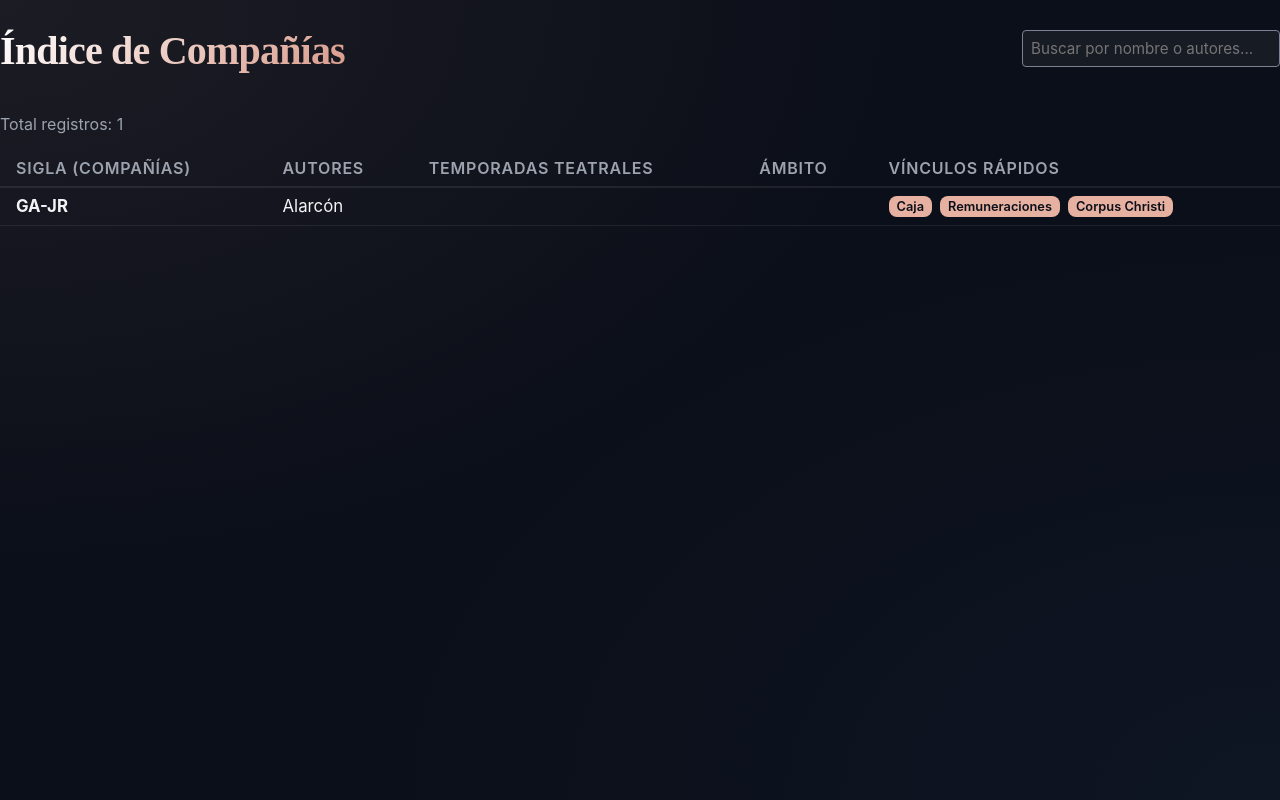
it: índice de compañías: navegar a Caja / Remuneraciones › sin registros avisa y no navega
Click the button "Caja". click: (910, 206)
box: [889,196,932,217]
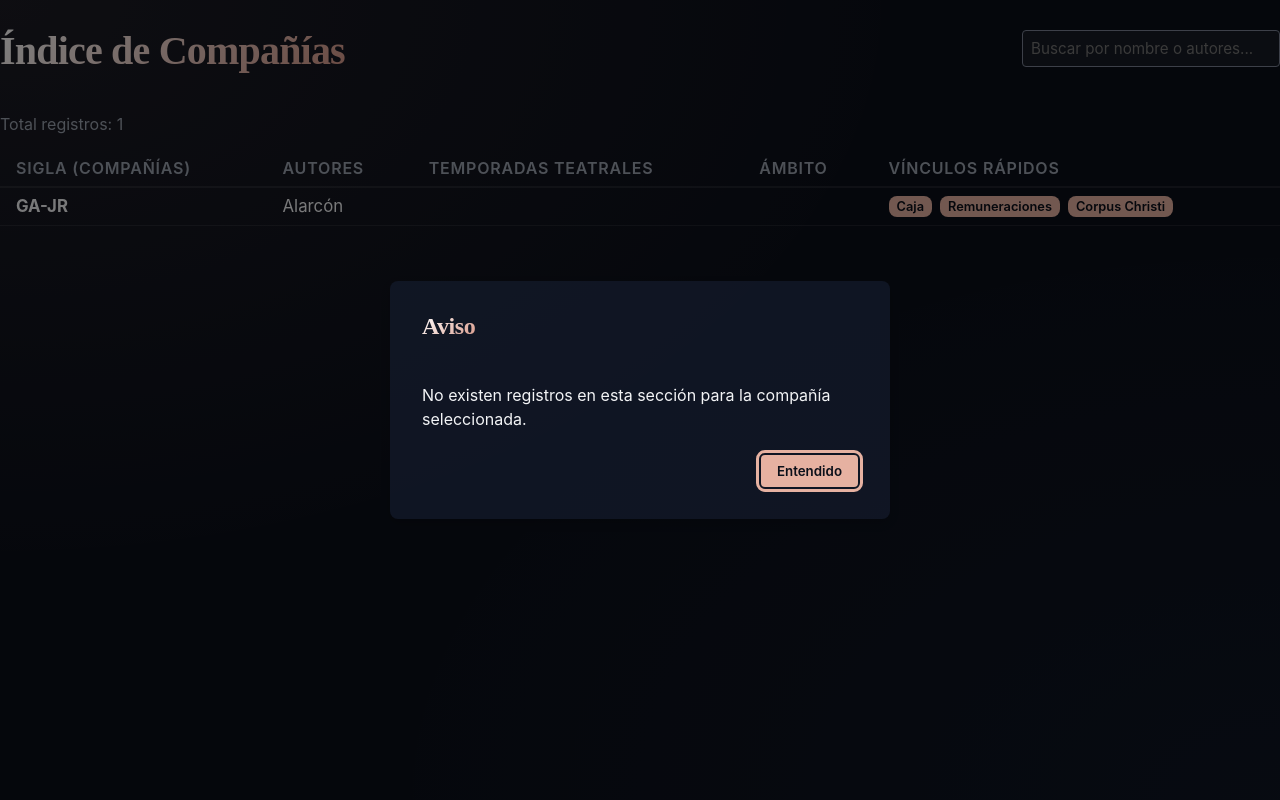
expect the text "No existen registros en esta sección" is shown: met, box [422,386,830,430]
